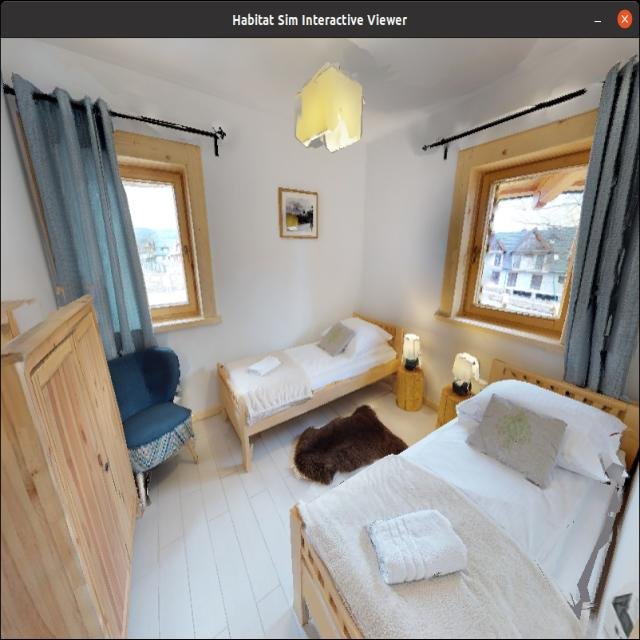bed: (264, 339, 640, 639), (200, 293, 406, 448)
